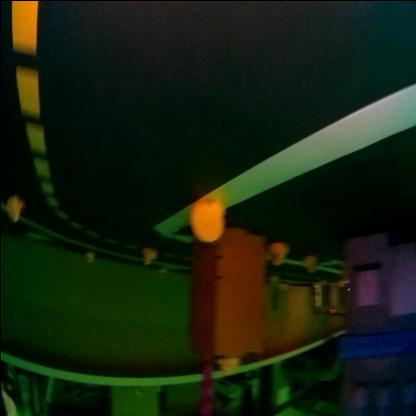Duckie: (190, 199, 222, 242), (6, 196, 21, 221), (268, 244, 286, 264), (218, 358, 238, 373), (141, 249, 155, 265), (303, 254, 315, 272), (86, 252, 92, 262)
